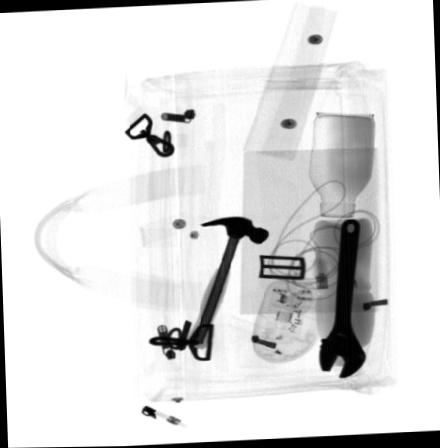Hammer: (186, 216, 268, 349)
Wrench: (320, 218, 365, 378)
